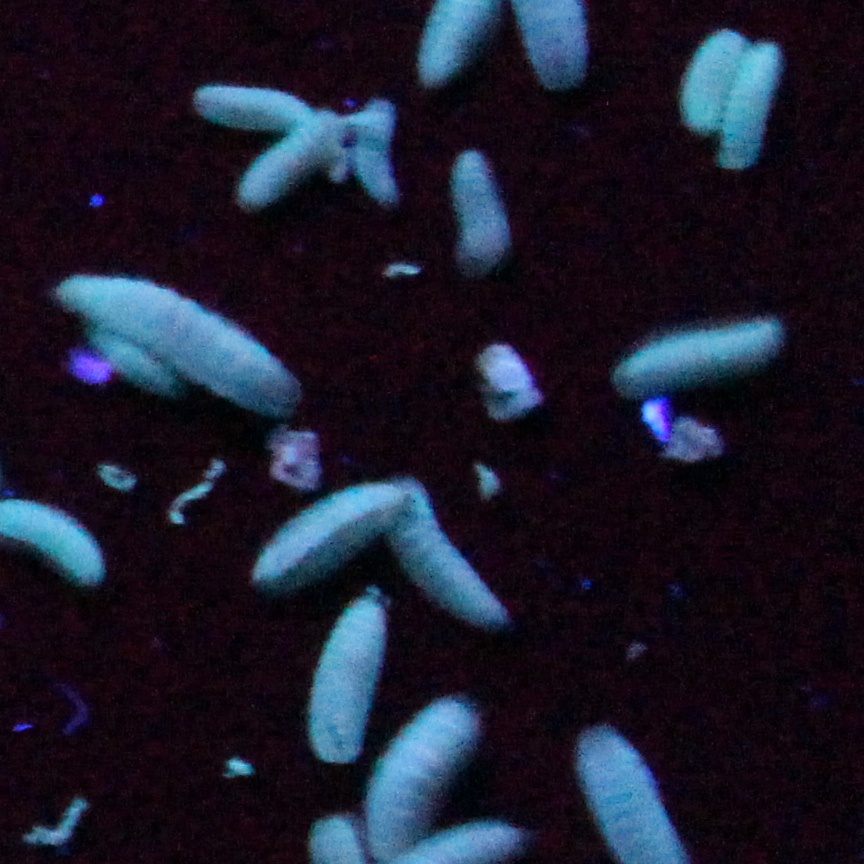larve: (58, 260, 297, 423), (368, 699, 475, 856), (258, 473, 403, 582), (394, 482, 511, 617), (610, 311, 778, 396), (239, 112, 330, 205), (326, 587, 372, 764), (732, 37, 787, 182), (445, 146, 505, 271), (190, 68, 313, 128), (681, 13, 724, 129), (355, 108, 397, 217)
